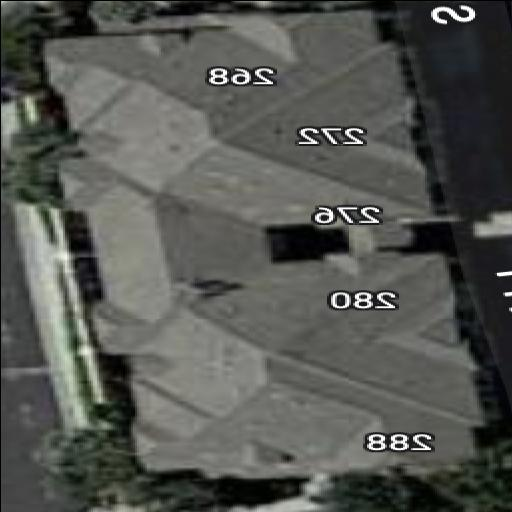Slope-Roof: (43, 6, 482, 469)
